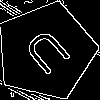U: (21, 26, 80, 85)
